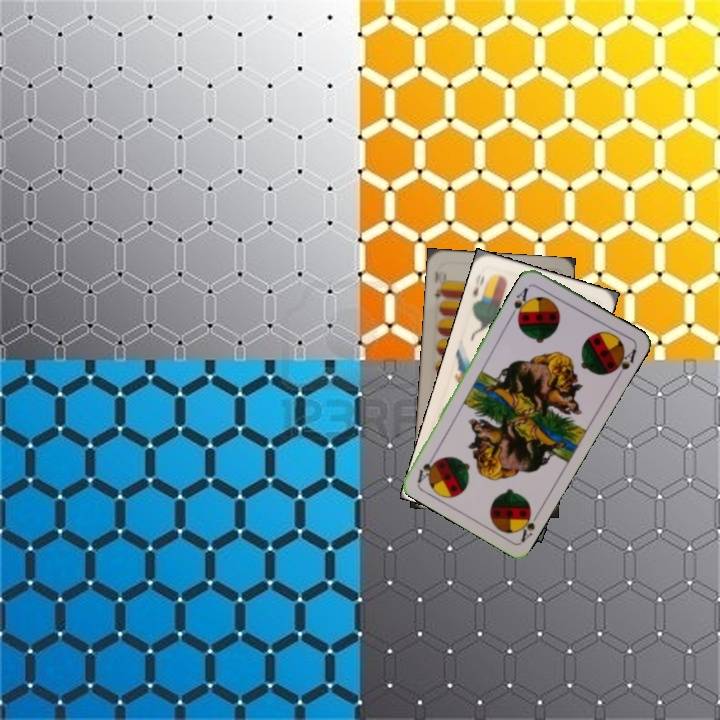E10: (431, 276, 447, 302)
EO: (468, 271, 493, 306)
SA: (513, 504, 542, 545), (507, 283, 533, 322)
